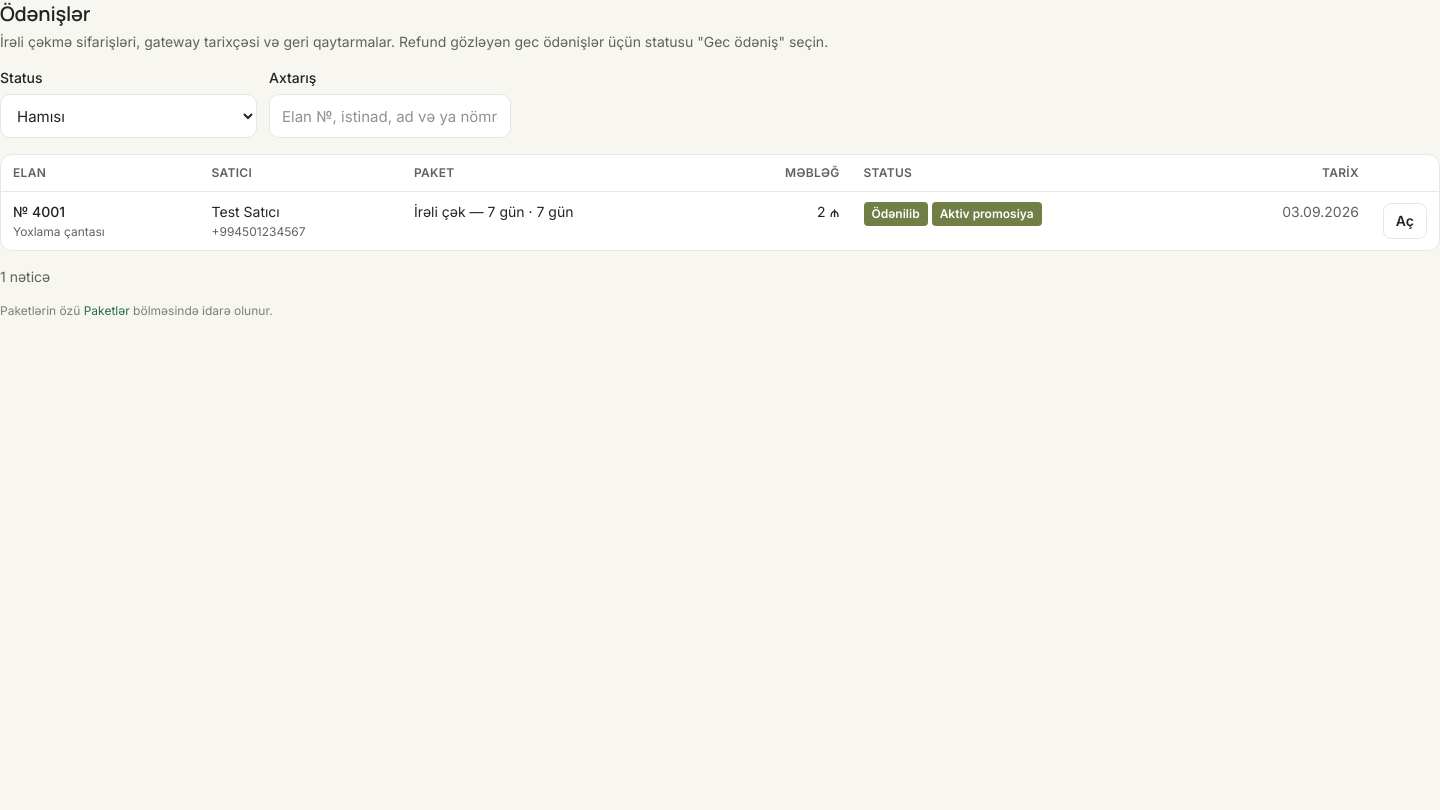
Scenario: AdminPaymentsPage › refunds with a reason, sending an amount only when one is typed
The image size is (1440, 810).
Click the button "Aç". click: (1405, 221)
box: [1383,203,1427,239]
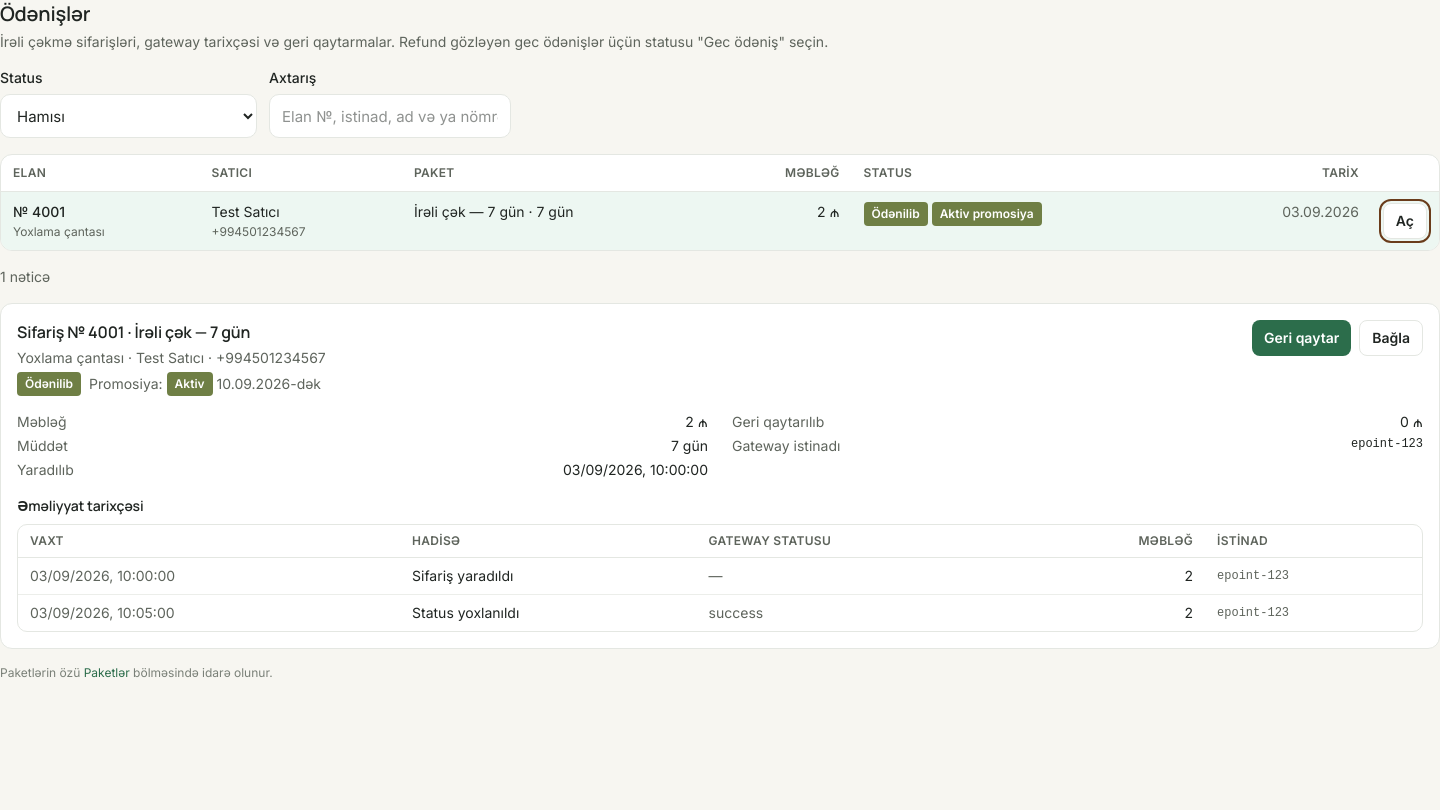
Click the button "Geri qaytar". click: (1302, 338)
box: [1252,320,1351,356]
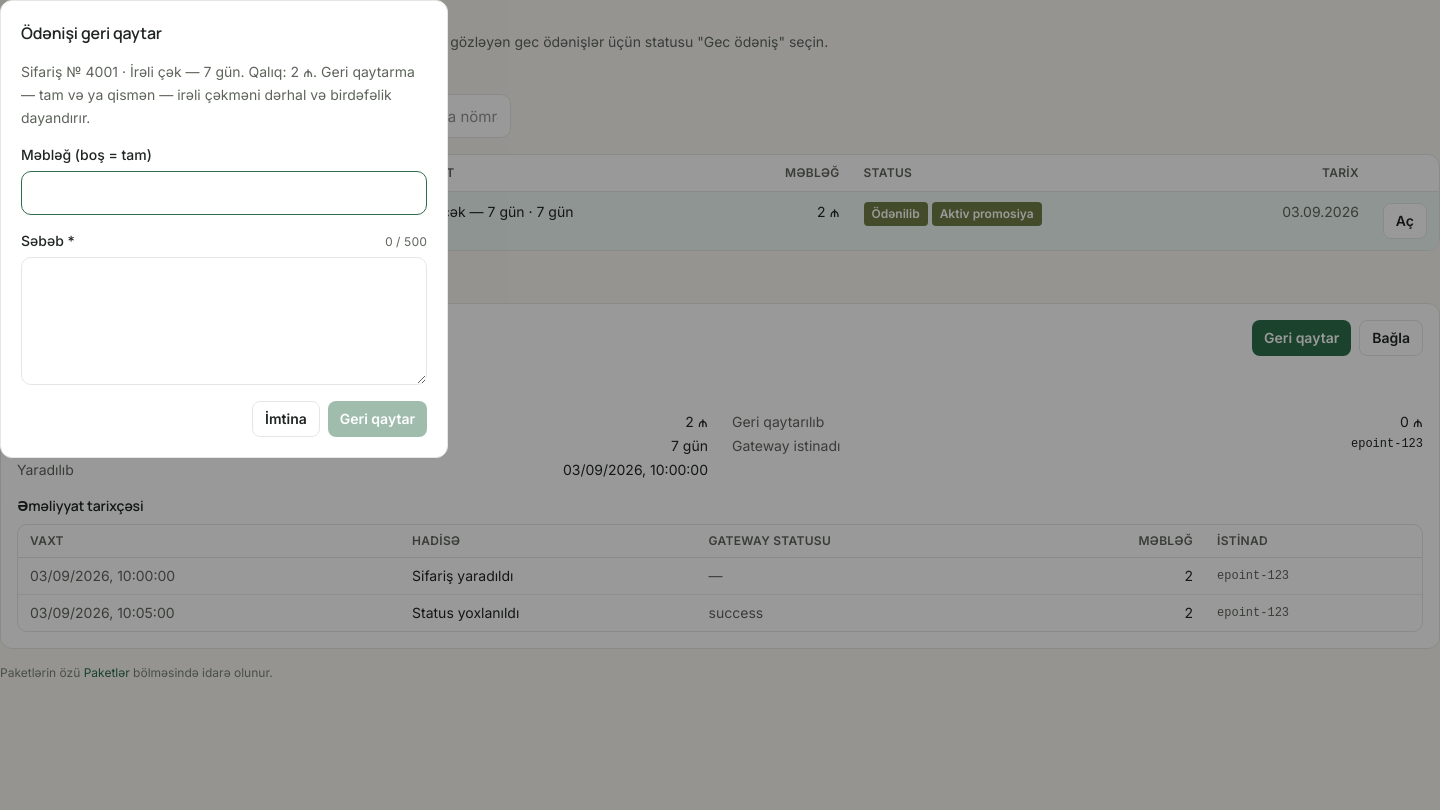
expect the button "Geri qaytar" is disabled: met, box [328,401,427,437]
Type "Alıcı şikayəti" into the text box labelled "Səbəb *". click: (224, 321)
box: [21,257,427,385]
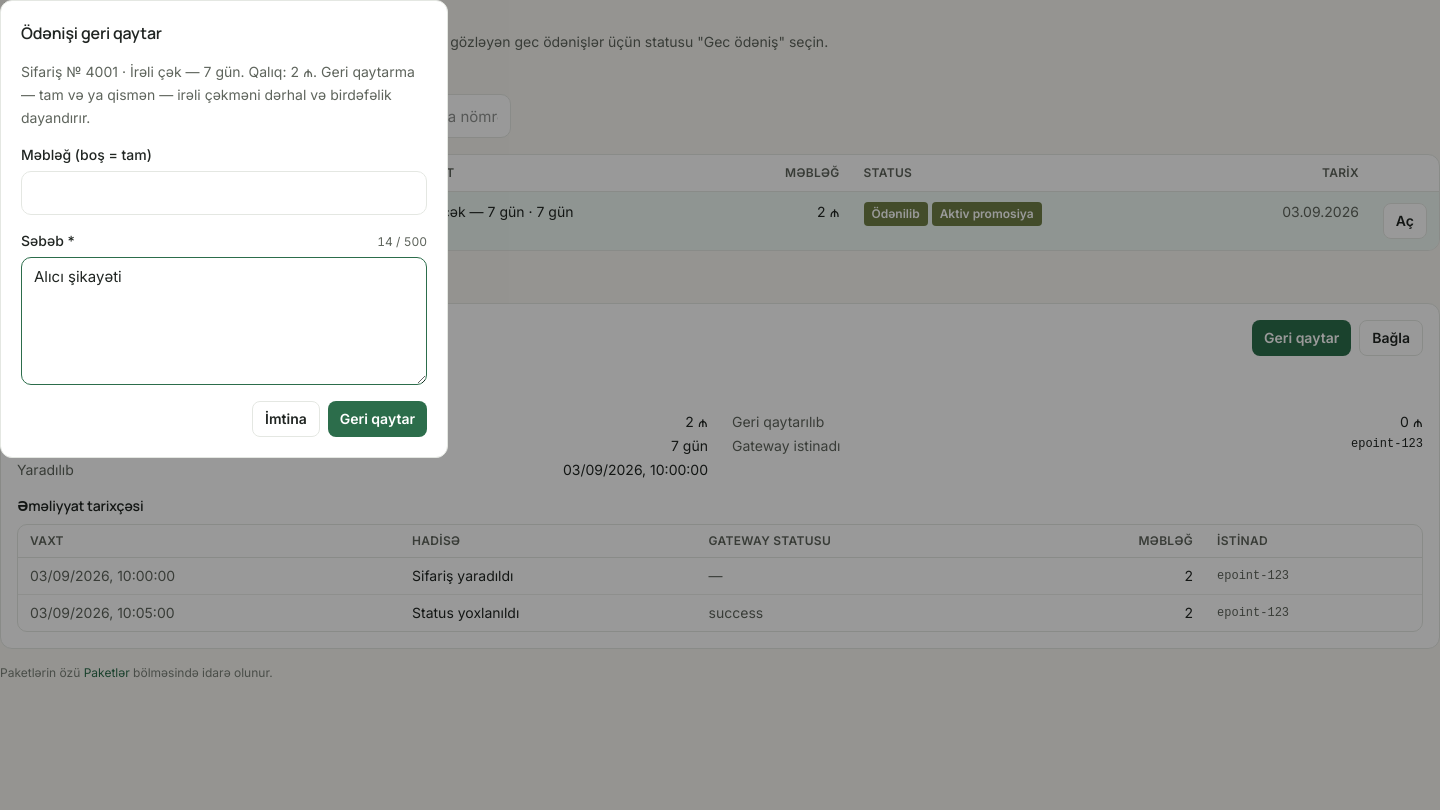
Click the button "Geri qaytar". click: (377, 419)
box: [328,401,427,437]
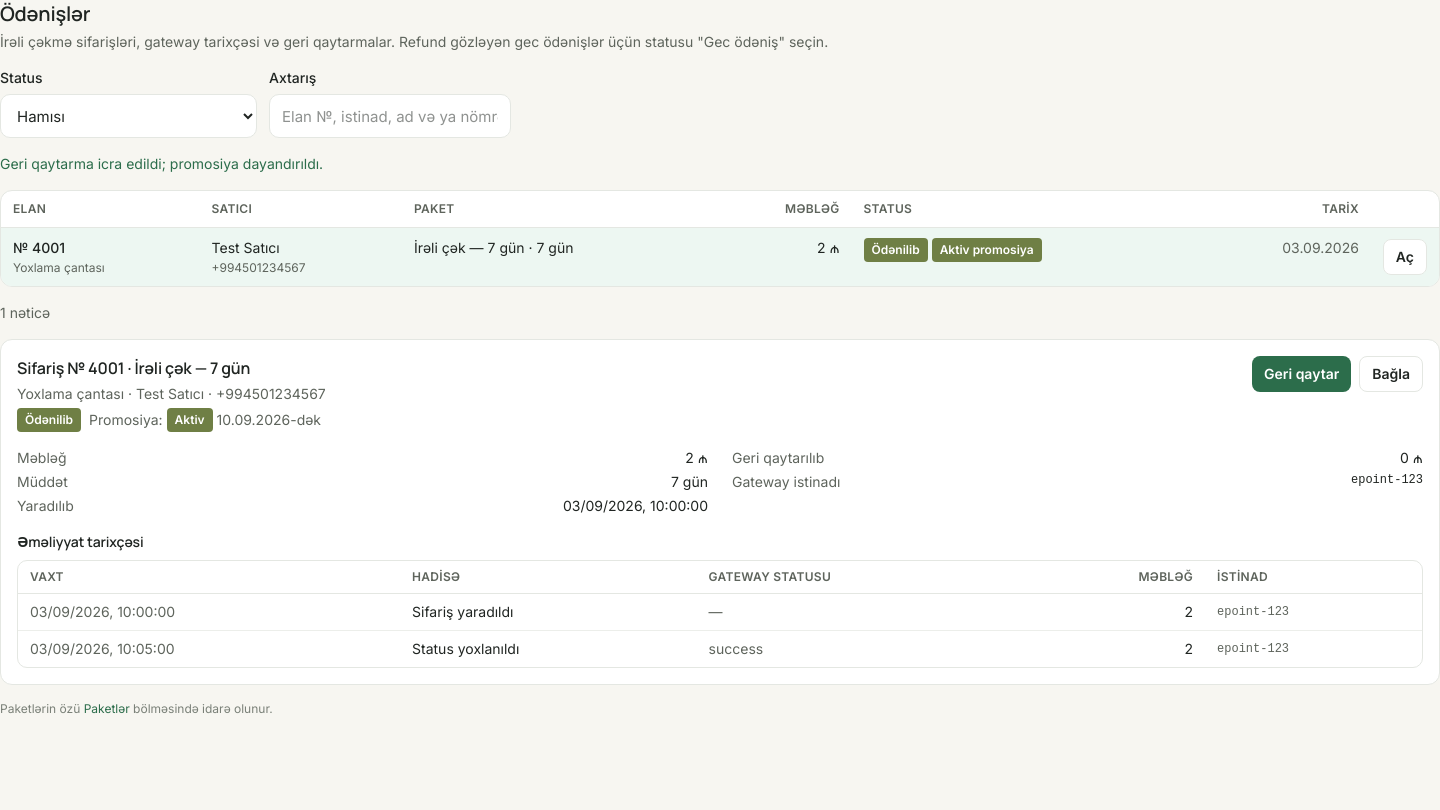
expect the heading "Ödənişi geri qaytar" is gone: met
